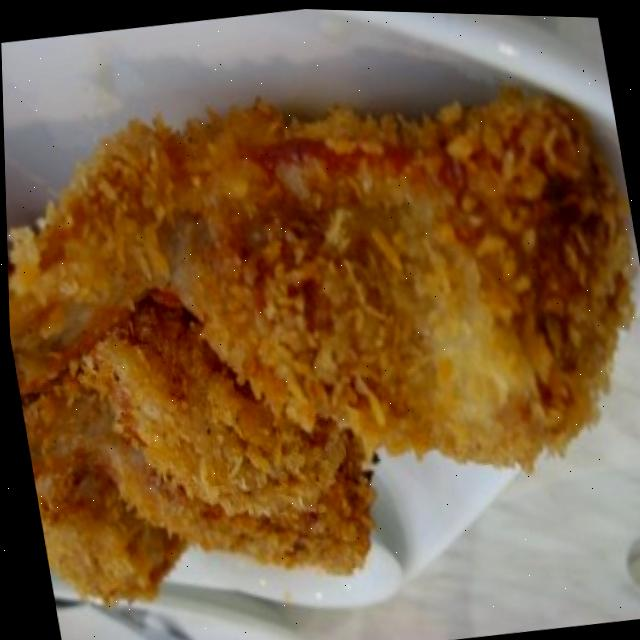鸡肉料理 含炸鸡: (13, 0, 640, 640)
